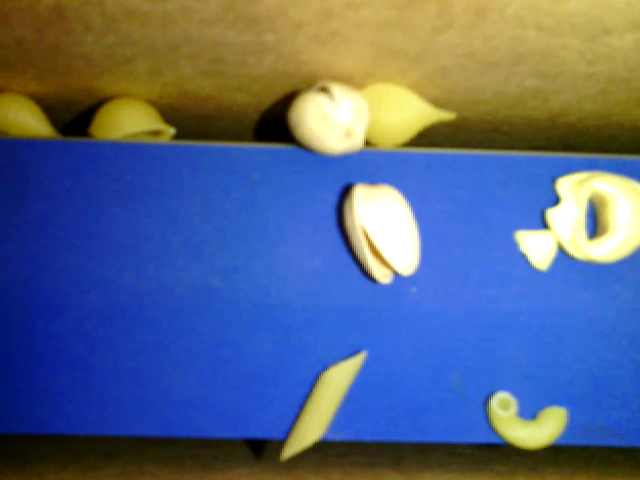elbow: (484, 388, 570, 451)
penne: (277, 349, 368, 461)
shell: (355, 80, 458, 150), (84, 95, 177, 139), (1, 91, 62, 135)
tortellini: (543, 169, 639, 264)
